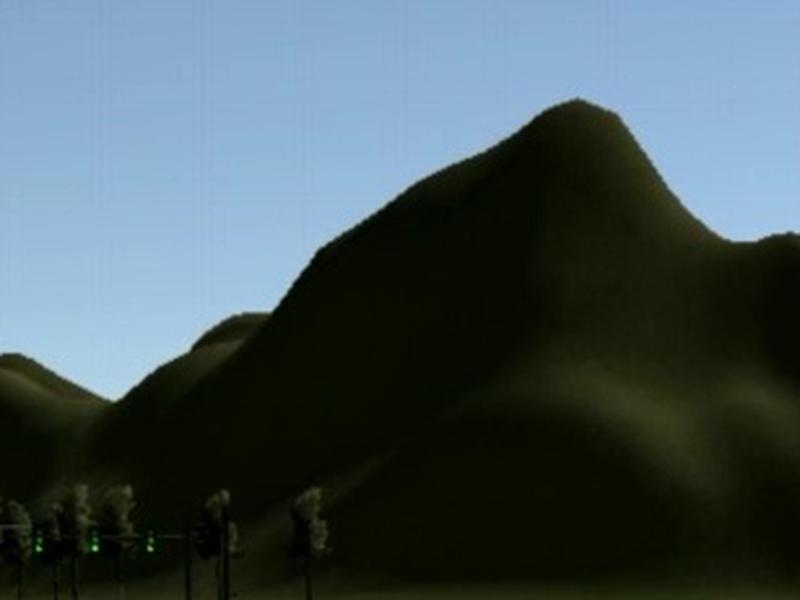Green: (34, 530, 45, 554), (90, 530, 101, 553), (145, 531, 156, 553)
